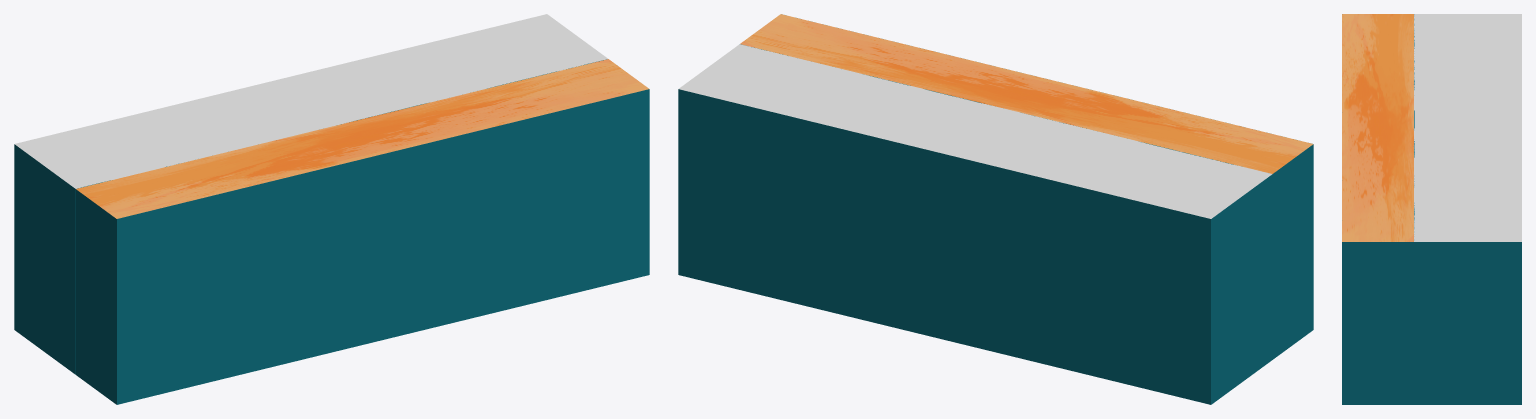
File: lava-platform-002.fbx
3 renders of one model, left to right at view 1: azimuth 30°, elevation 25°; view 2: azimuth 150°, elevation 25°; view 3: azimuth 270°, elevation 25°, orthographic. The views are drawn at different scales.
Parts seen in each view (by area): view 1: Platform-box.001, lava-plane.002, Platform-box.002; view 2: Platform-box.001, lava-plane.002; view 3: Platform-box.001, lava-plane.002.
Boxes of the visible parts, x1,y1,x2,y2 form: Platform-box.001: (14, 14, 649, 404); lava-plane.002: (76, 59, 648, 218); Platform-box.002: (77, 59, 649, 222); Platform-box.001: (678, 44, 1313, 404); lava-plane.002: (740, 14, 1313, 173); Platform-box.001: (1342, 14, 1521, 404); lava-plane.002: (1342, 14, 1413, 241).
Bounding box in the file's own units: 3000 × 1000 × 1000.
